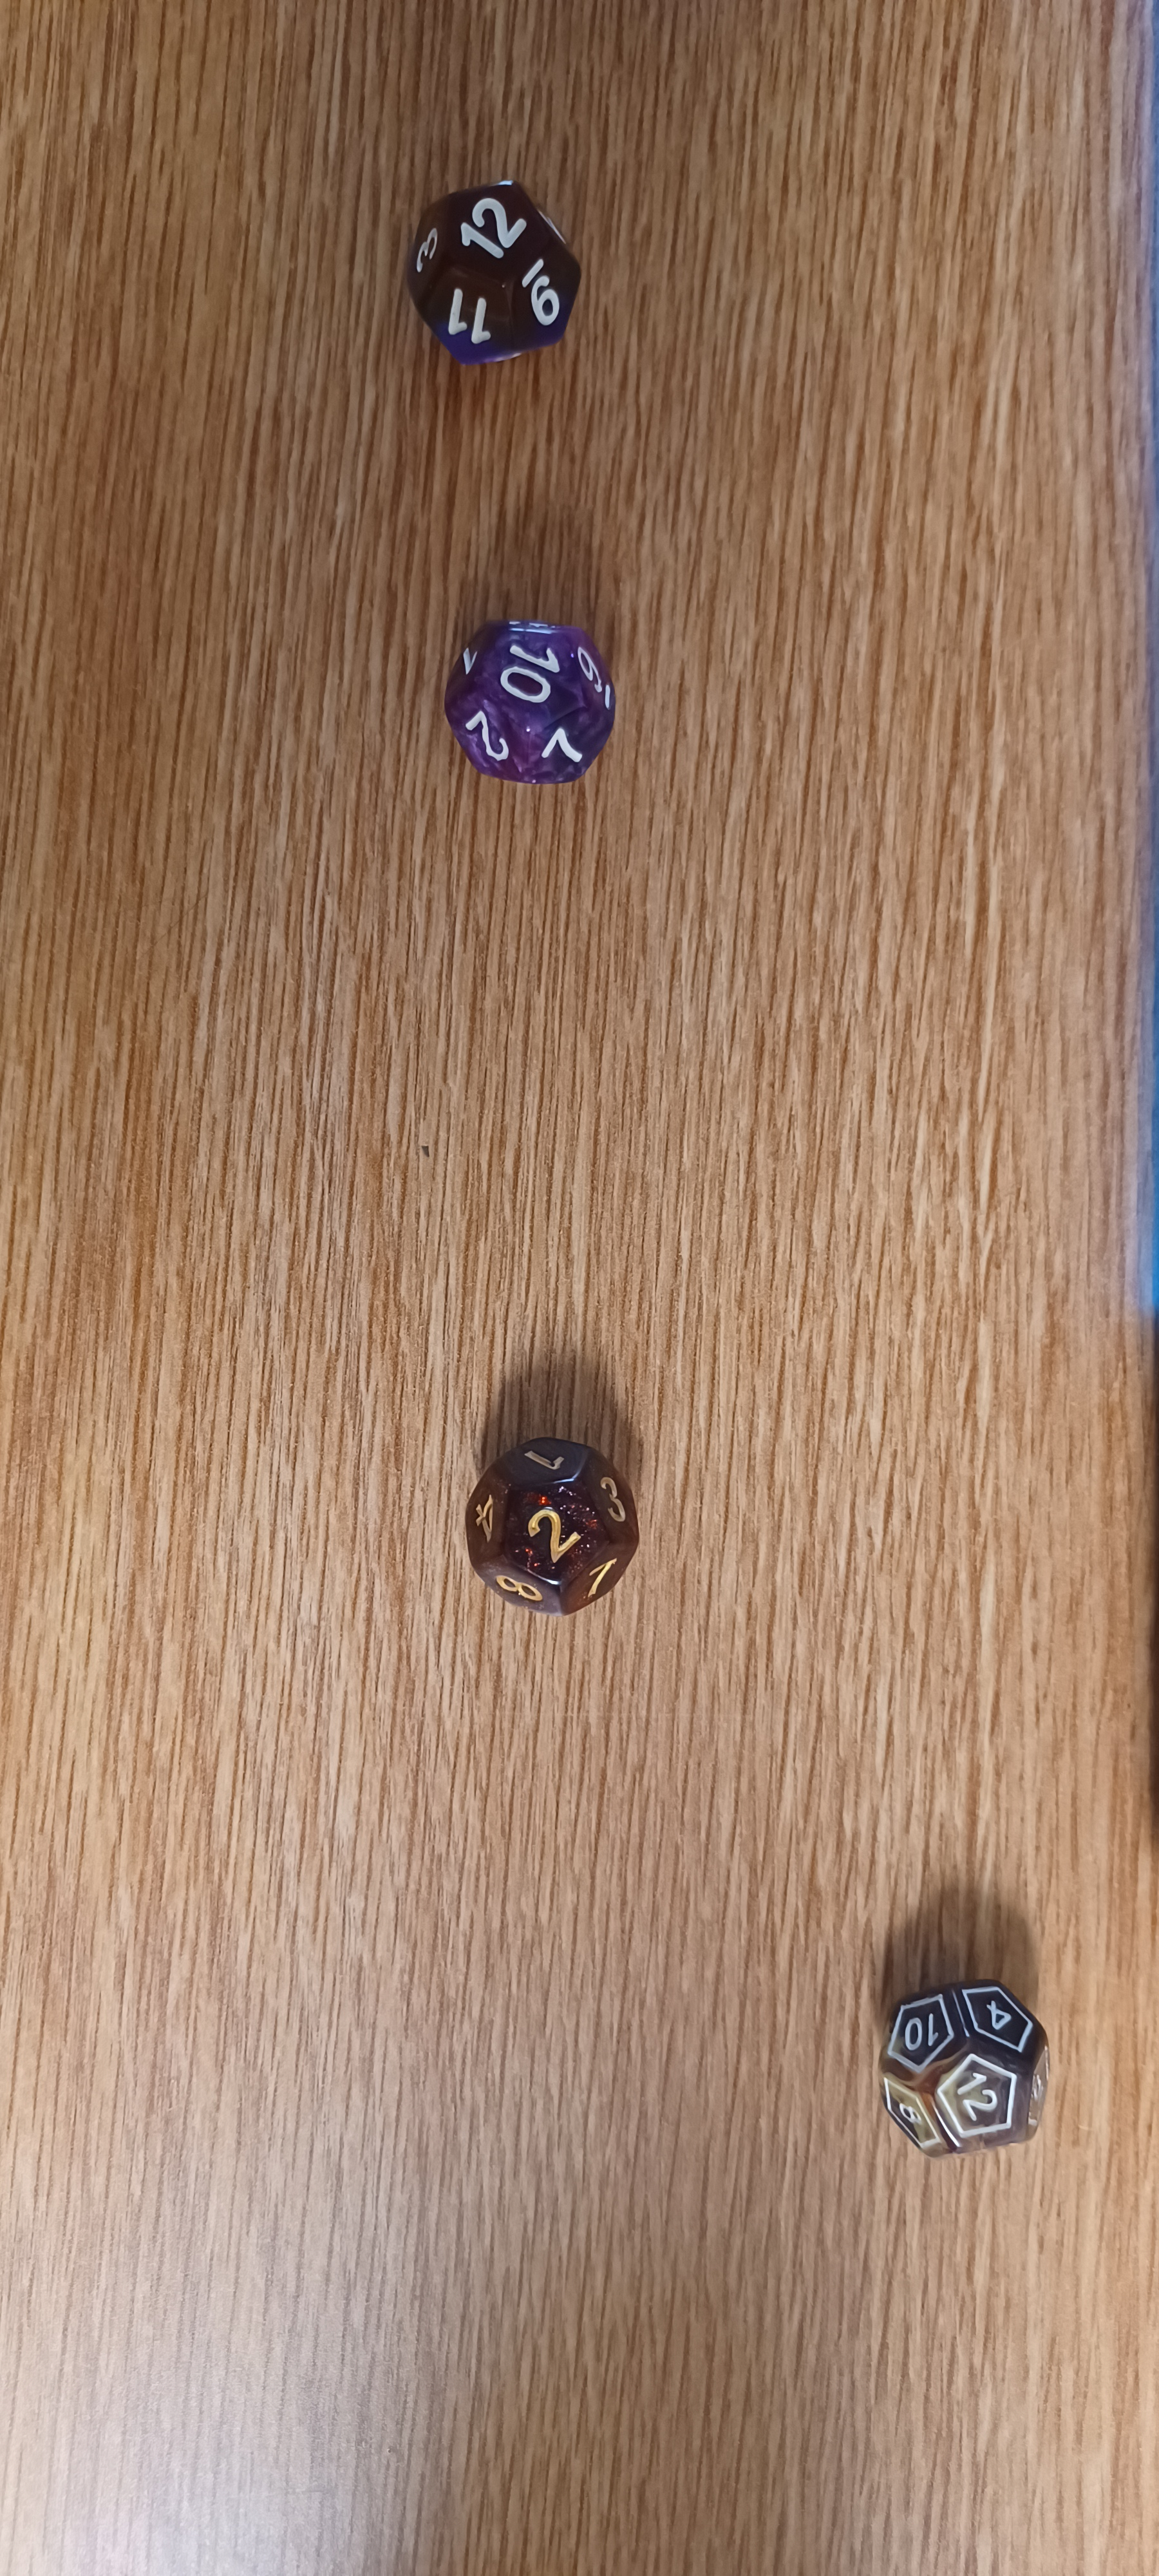ten: (409, 570, 639, 816)
twelve: (383, 153, 634, 399), (852, 1948, 1075, 2175)
two: (404, 1364, 701, 1679)
